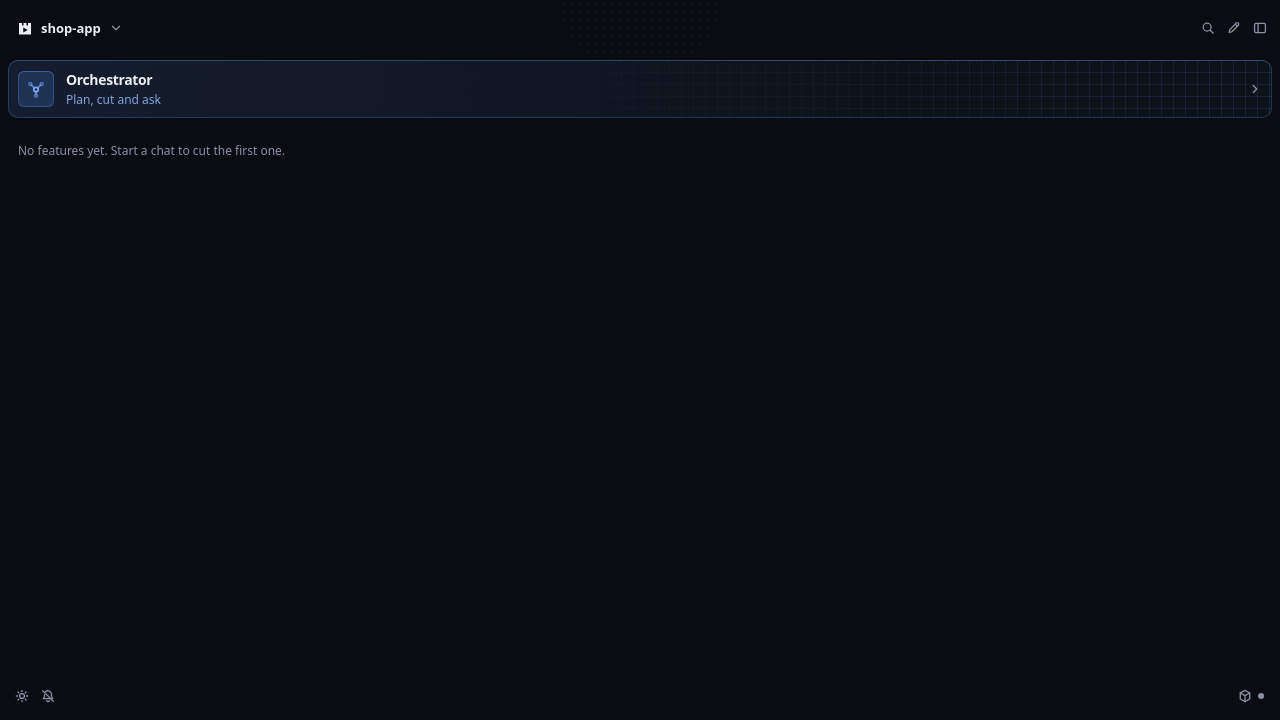
Scenario: the head › offers "Add to backlog" in the Create menu
The width and height of the screenshot is (1280, 720).
Press the mouse on the button named "Create" at (1234, 28), box left=1222, top=16, right=1246, bottom=40
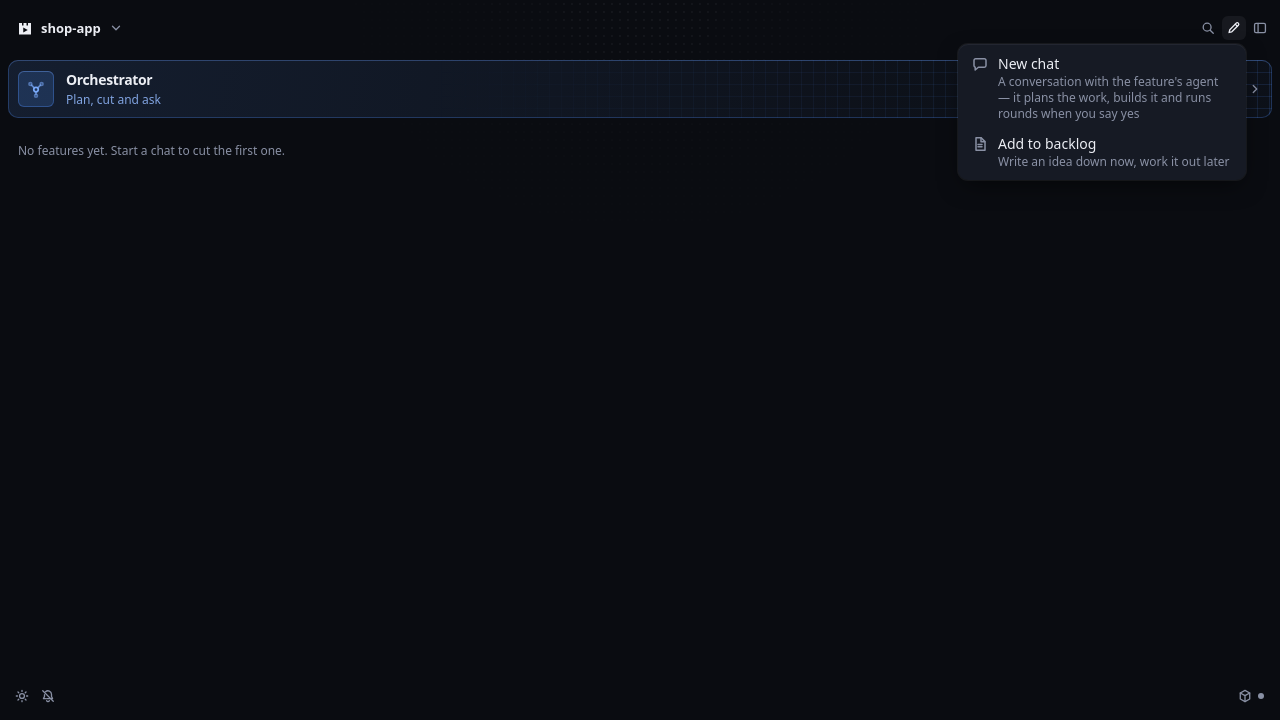
Expected: the menu item "Add to backlog Write an idea down now, work it out later" is shown, left=962, top=128, right=1242, bottom=176
